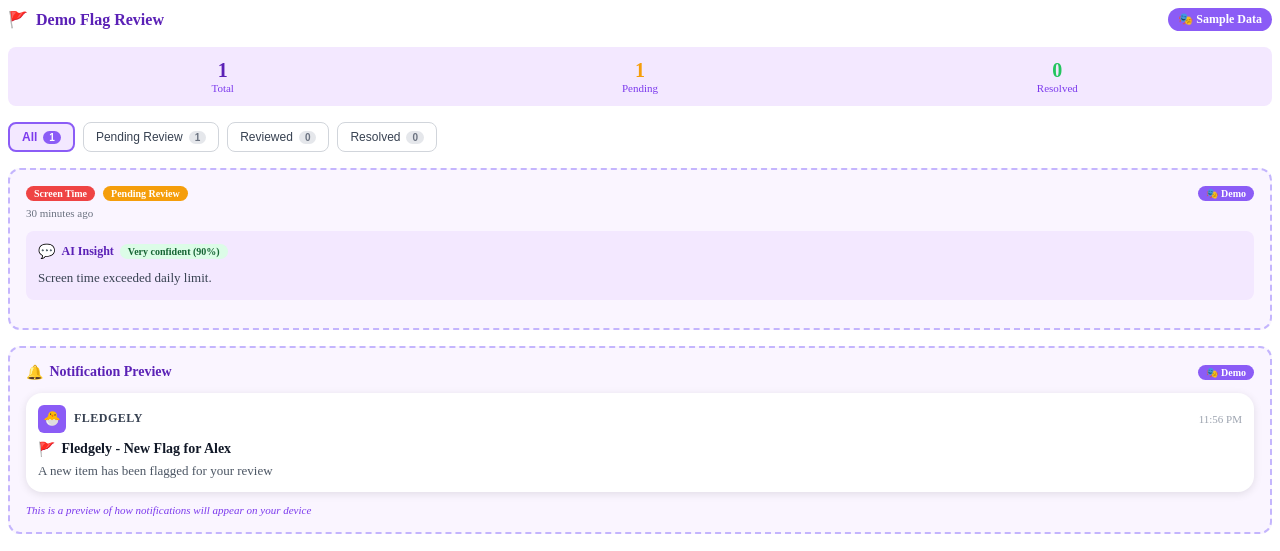
DemoFlagReviewPanel › filter tabs › should show empty state when filter has no matches
Click the button with test id "filter-resolved": (387, 137) [338,122,437,152]
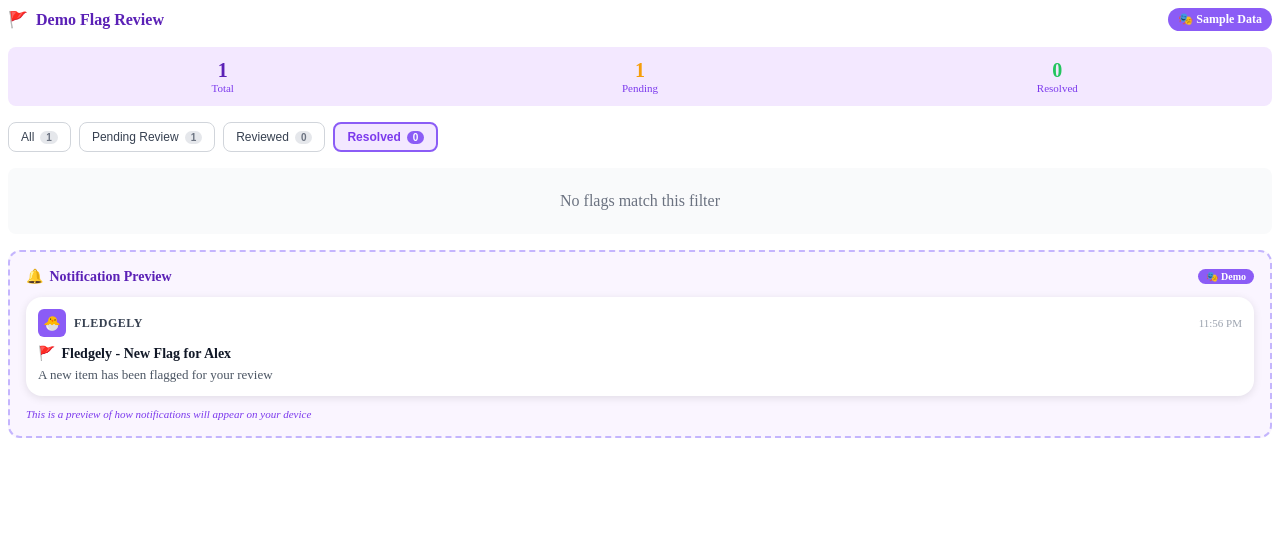
Result: the text "No flags match this filter" is shown at [8,168,1272,234]
